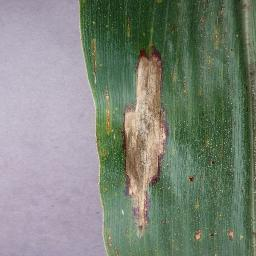Corn_Blight: (115, 36, 169, 236), (68, 28, 98, 94), (183, 225, 247, 250), (96, 91, 110, 161), (179, 161, 215, 188)
